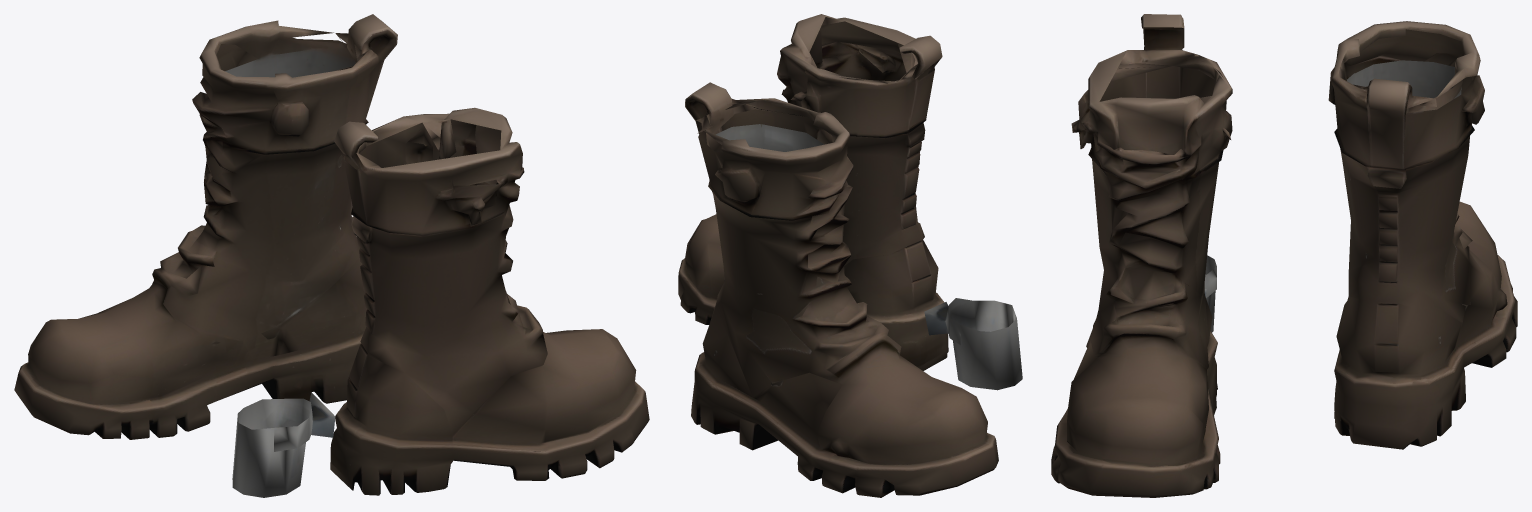
File: cobbled_boots.glb
3 renders of one model, left to right at view 1: azimuth 30°, elevation 25°; view 2: azimuth 150°, elevation 25°; view 3: azimuth 270°, elevation 25°, orthographic. The views are drawn at different scales.
Visible parts, largest first — view 1: base_model_path; view 2: base_model_path; view 3: base_model_path.
Part boxes in pixels (x1,y1,x2,y2): base_model_path: (14,14,649,497); base_model_path: (678,14,1022,497); base_model_path: (1051,14,1517,497).
Bounding box in the file's own units: 0.9961 × 0.7104 × 0.8161.
Materials: 1 (1 with a texture image).
